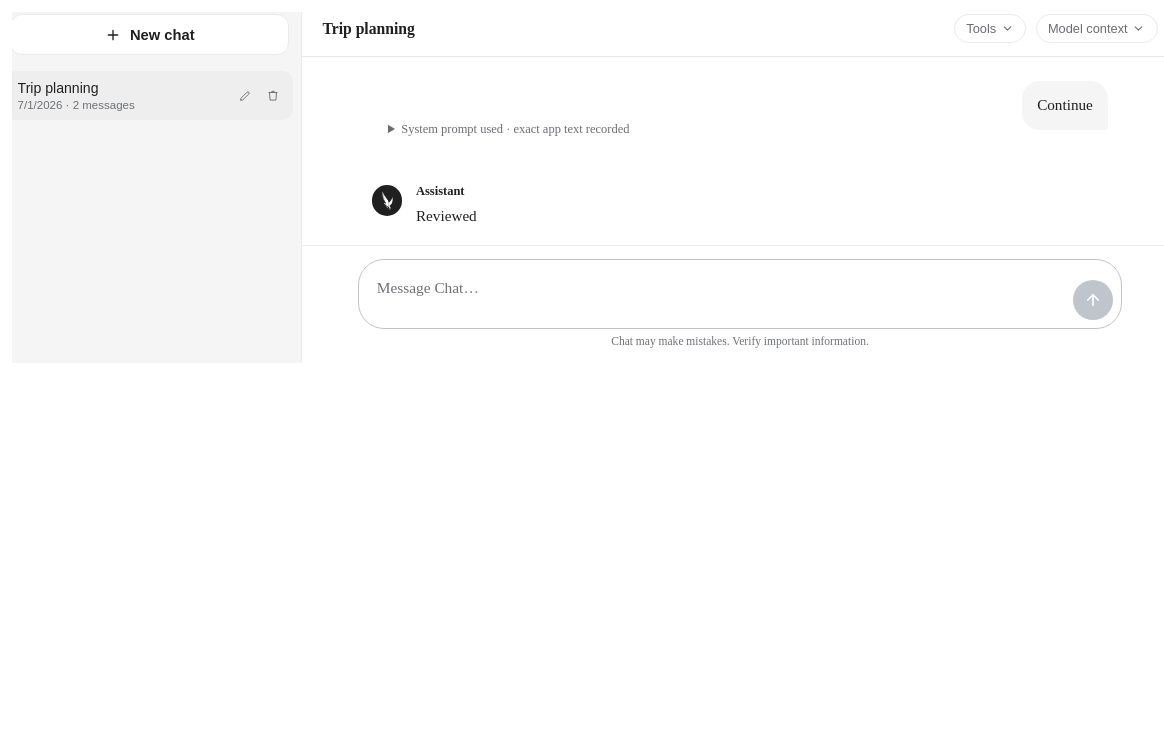
Test: ChatSurface prompt context › shows the host-recorded exact app context for its request
This screenshot has width=1164, height=732.
Click the heading "System prompt used · exact app text recorded" at (515, 129), box [401,122,629,136]
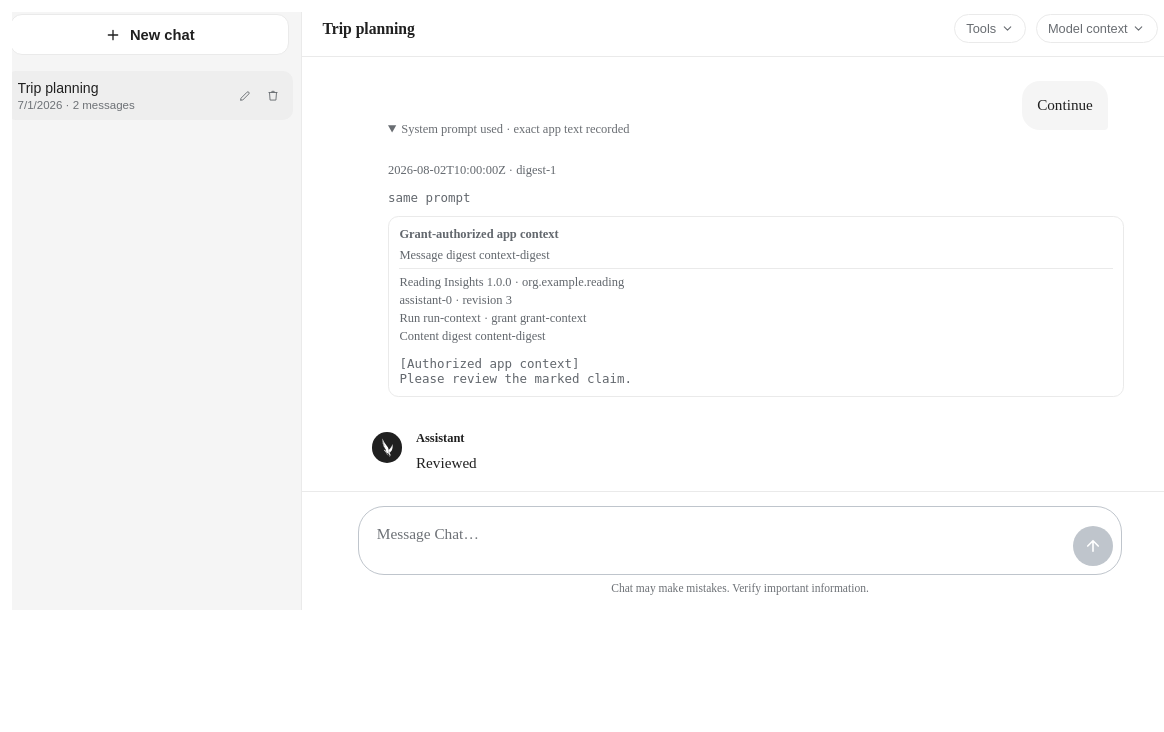
Expected: the text "Grant-authorized app context" is shown, [399,227,559,241]
Expected: the text "Reading Insights 1.0.0 · org.example.reading" is shown, [399,275,624,289]
